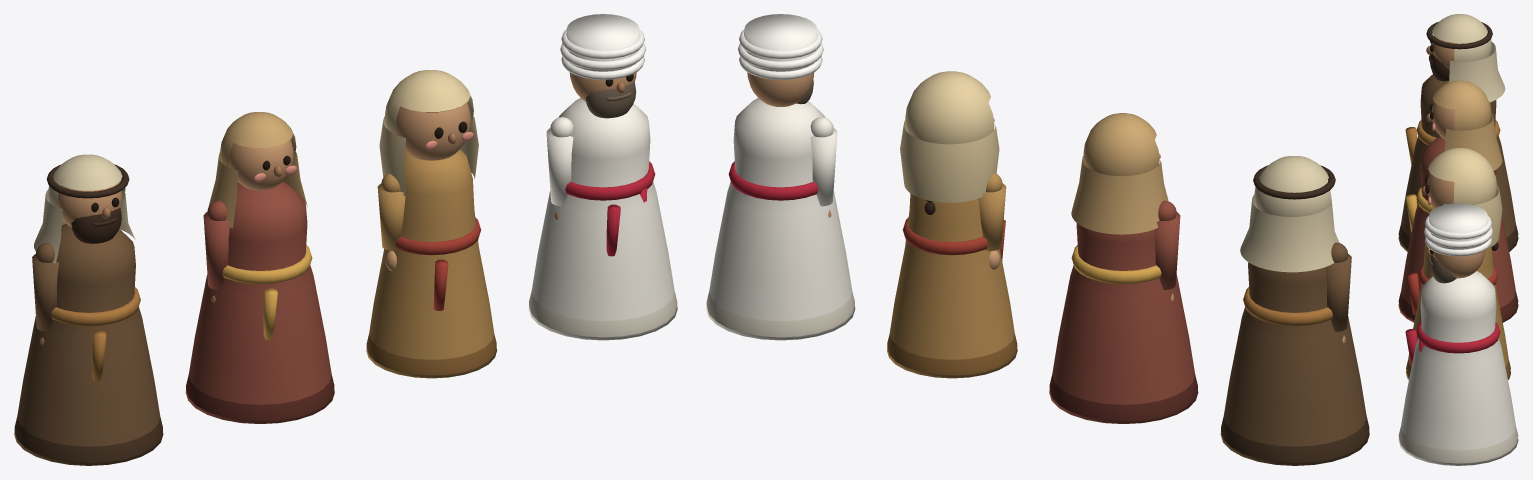
Rendered from family.glb.
The picture shows the model from 3 angles, left to right: view 1: azimuth 30°, elevation 25°; view 2: azimuth 150°, elevation 25°; view 3: azimuth 270°, elevation 25°; orthographic projection. The views are drawn at different scales.
Visible parts, largest first — view 1: mother_body, daughter_body, father_body, priest_body, priest_cover, father_cover, priest_arm, mother_arm, father_arm, daughter_arm; view 2: mother_body, daughter_body, priest_body, father_body, father_cover, priest_cover, priest_arm, mother_arm, father_arm, daughter_arm; view 3: priest_body, mother_body, daughter_body, father_body, father_cover, priest_cover.
Part boxes in pixels (x1,y1,x2,y2): mother_body: (185, 112, 334, 423); daughter_body: (366, 70, 496, 378); father_body: (14, 182, 163, 465); priest_body: (528, 72, 677, 340); priest_cover: (560, 14, 645, 79); father_cover: (34, 154, 135, 263); priest_arm: (546, 117, 573, 219); mother_arm: (203, 200, 229, 303); father_arm: (32, 242, 58, 345); daughter_arm: (377, 173, 405, 270); mother_body: (1049, 113, 1198, 423); daughter_body: (887, 71, 1017, 378); priest_body: (706, 72, 855, 340); father_body: (1220, 262, 1369, 465); father_cover: (1240, 156, 1339, 272); priest_cover: (738, 14, 823, 79); priest_arm: (810, 117, 837, 217); mother_arm: (1154, 200, 1180, 300); father_arm: (1325, 242, 1351, 342); daughter_arm: (978, 173, 1006, 269); priest_body: (1398, 248, 1518, 465); mother_body: (1398, 80, 1518, 322); daughter_body: (1406, 148, 1510, 379); father_body: (1398, 36, 1518, 251); father_cover: (1426, 14, 1505, 102); priest_cover: (1424, 203, 1492, 256).
Size of the model in its own units: 9.76 by 4.05 by 1.96.
